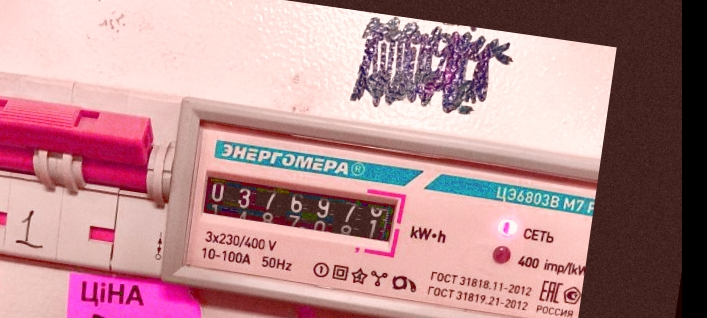0: (207, 178, 225, 202)
1: (365, 216, 377, 239)
3: (235, 185, 251, 208)
6: (287, 189, 305, 214)
7: (261, 186, 278, 211), (340, 197, 357, 222)
9: (313, 195, 330, 218)
screen: (187, 159, 409, 261)
